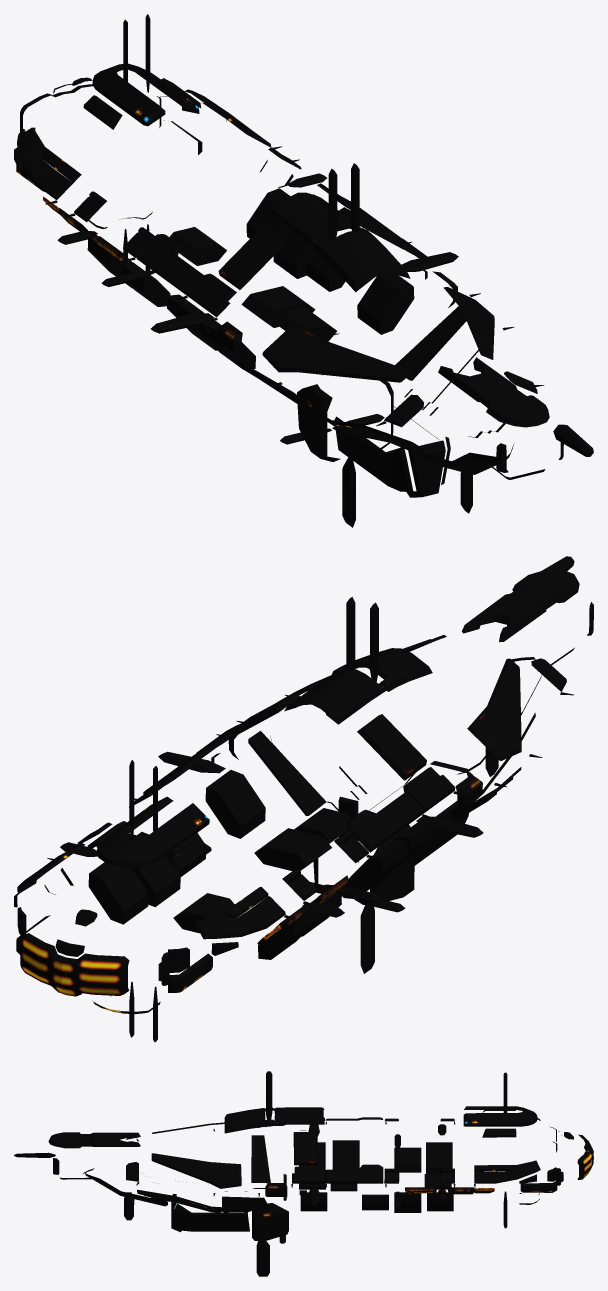
File: tr1_cf_frei_01_t1.glb
3 views of the same model, one above another, from view 1: azimuth 30°, elevation 25°; view 2: azimuth 150°, elevation 25°; view 3: azimuth 270°, elevation 25° (orthographic). The views are drawn at different scales.
Visible parts, largest first — view 1: tr1_cf_frei_01_t1_LOD0; view 2: tr1_cf_frei_01_t1_LOD0; view 3: tr1_cf_frei_01_t1_LOD0.
Boxes of the visible parts, x1,y1,x2,y2 form: tr1_cf_frei_01_t1_LOD0: (14,14,593,527); tr1_cf_frei_01_t1_LOD0: (14,556,593,1042); tr1_cf_frei_01_t1_LOD0: (14,1071,593,1276).
Size of what is drawn, in the model's own units: 4.05 by 4.49 by 11.67.
Materials: 1 (1 with a texture image).
